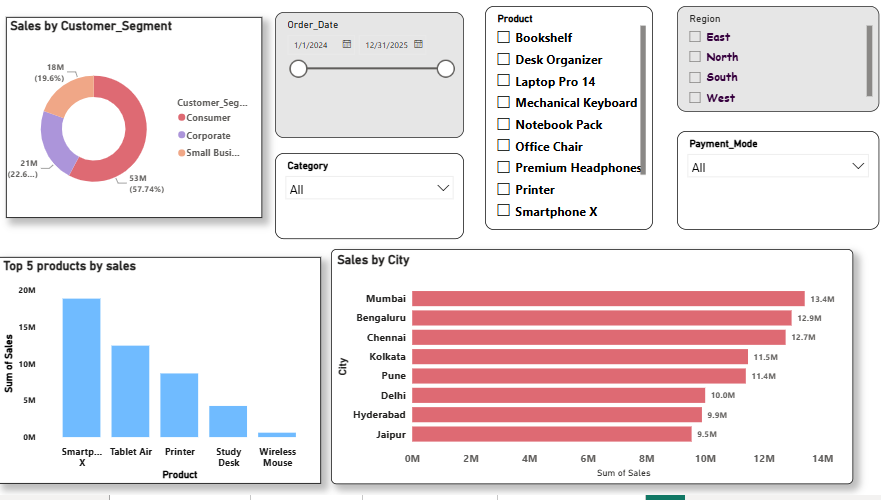

The page's visual inventory and layout, read from the dashboard file:
{"tool":"powerbi","page":{"name":"sales analysis","canvas":[1280,720],"ordinal":1},"visuals":[{"type":"donutChart","title":" Sales by Customer_Segment","fields":{"Y":["Sum(Ecommerce_Orders (1).Sales)"],"Category":["Ecommerce_Customers.Customer_Segment"]},"box":[10,28.6,365.7,287.1],"z":0},{"type":"columnChart","title":"Top 5 products by sales","fields":{"Category":["Ecommerce_Products.Product"],"Y":["Sum(Ecommerce_Orders (1).Sales)"]},"box":[0,371.4,460,324.3],"z":1},{"type":"barChart","title":" Sales by City","fields":{"Y":["Sum(Ecommerce_Orders (1).Sales)"],"Category":["Ecommerce_Customers.City"]},"box":[474.3,360,745.7,335.7],"z":2},{"type":"slicer","fields":{"Values":["Ecommerce_Orders (1).Region"]},"box":[968.6,12.9,288.6,151.4],"z":3},{"type":"slicer","fields":{"Values":["Ecommerce_Products.Product"]},"box":[694.3,12.9,240,320],"z":4},{"type":"slicer","fields":{"Values":["Ecommerce_Products.Category"]},"box":[394.3,222.9,270,122.9],"z":5},{"type":"slicer","fields":{"Values":["Ecommerce_Orders (1).Order_Date"]},"box":[394.3,21.4,270,180],"z":6},{"type":"slicer","fields":{"Values":["Ecommerce_Orders (1).Payment_Mode"]},"box":[968.6,191.4,288.6,141.4],"z":7}]}

Visuals, with their boxes in screenshot pixels (x1, y1, x2, y2), scaled from the page's 1280x720 canvas onto the 881x500 screenshot:
" Sales by Customer_Segment" donutChart: <box>7,20,259,219</box>
"Top 5 products by sales" columnChart: <box>0,258,317,483</box>
" Sales by City" barChart: <box>326,250,840,483</box>
slicer - Ecommerce_Orders (1).Region: <box>667,9,865,114</box>
slicer - Ecommerce_Products.Product: <box>478,9,643,231</box>
slicer - Ecommerce_Products.Category: <box>271,155,457,240</box>
slicer - Ecommerce_Orders (1).Order_Date: <box>271,15,457,140</box>
slicer - Ecommerce_Orders (1).Payment_Mode: <box>667,133,865,231</box>
